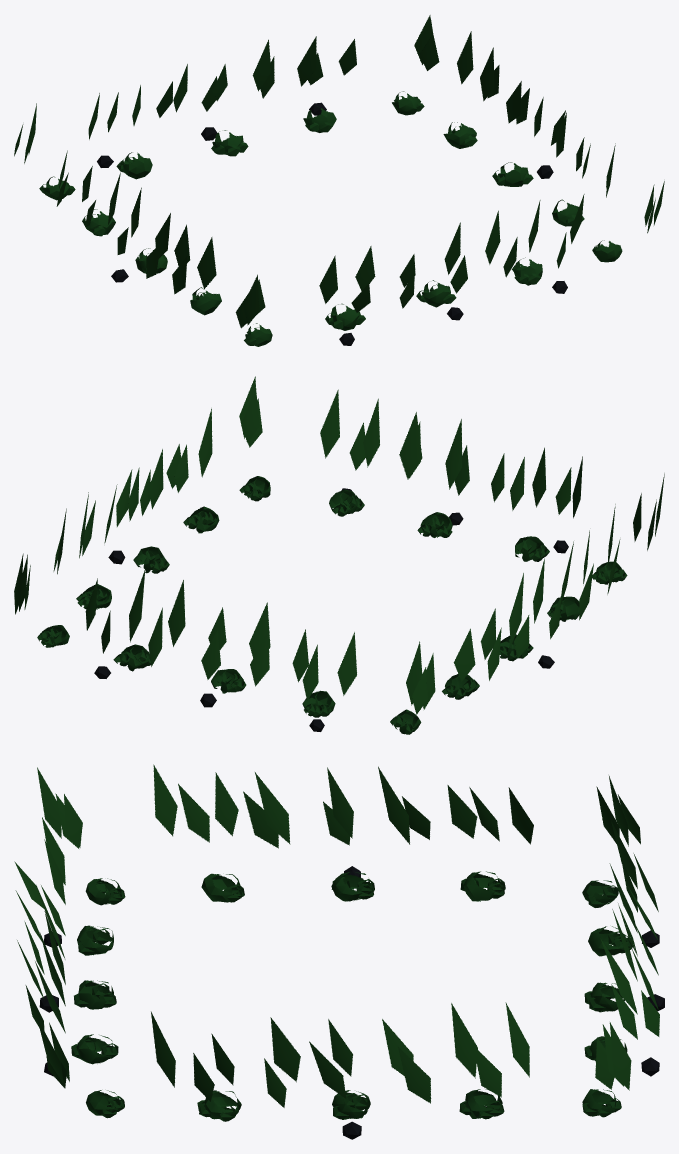
The model's file is tt_food_tree_moss.glb.
3 views of the same model, one above another, from view 1: azimuth 30°, elevation 25°; view 2: azimuth 150°, elevation 25°; view 3: azimuth 270°, elevation 25° (orthographic). The views are drawn at different scales.
Visible parts, largest first — view 1: Moss_Leaves, Moss_Mound, River_Stones; view 2: Moss_Leaves, Moss_Mound, River_Stones; view 3: Moss_Leaves, Moss_Mound, River_Stones.
Part boxes in pixels (x1,y1,x2,y2): Moss_Leaves: (14,15,664,328); Moss_Mound: (39,91,622,346); River_Stones: (97,102,567,345); Moss_Leaves: (14,376,664,714); Moss_Mound: (37,476,627,734); River_Stones: (94,488,568,731); Moss_Leaves: (14,764,659,1107); Moss_Mound: (71,871,632,1121); River_Stones: (39,866,664,1139).
Bounding box in the file's own units: 2.98 × 0.6814 × 3.09.
3 materials, 3 textured.
